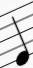note: (8, 8, 31, 66)
